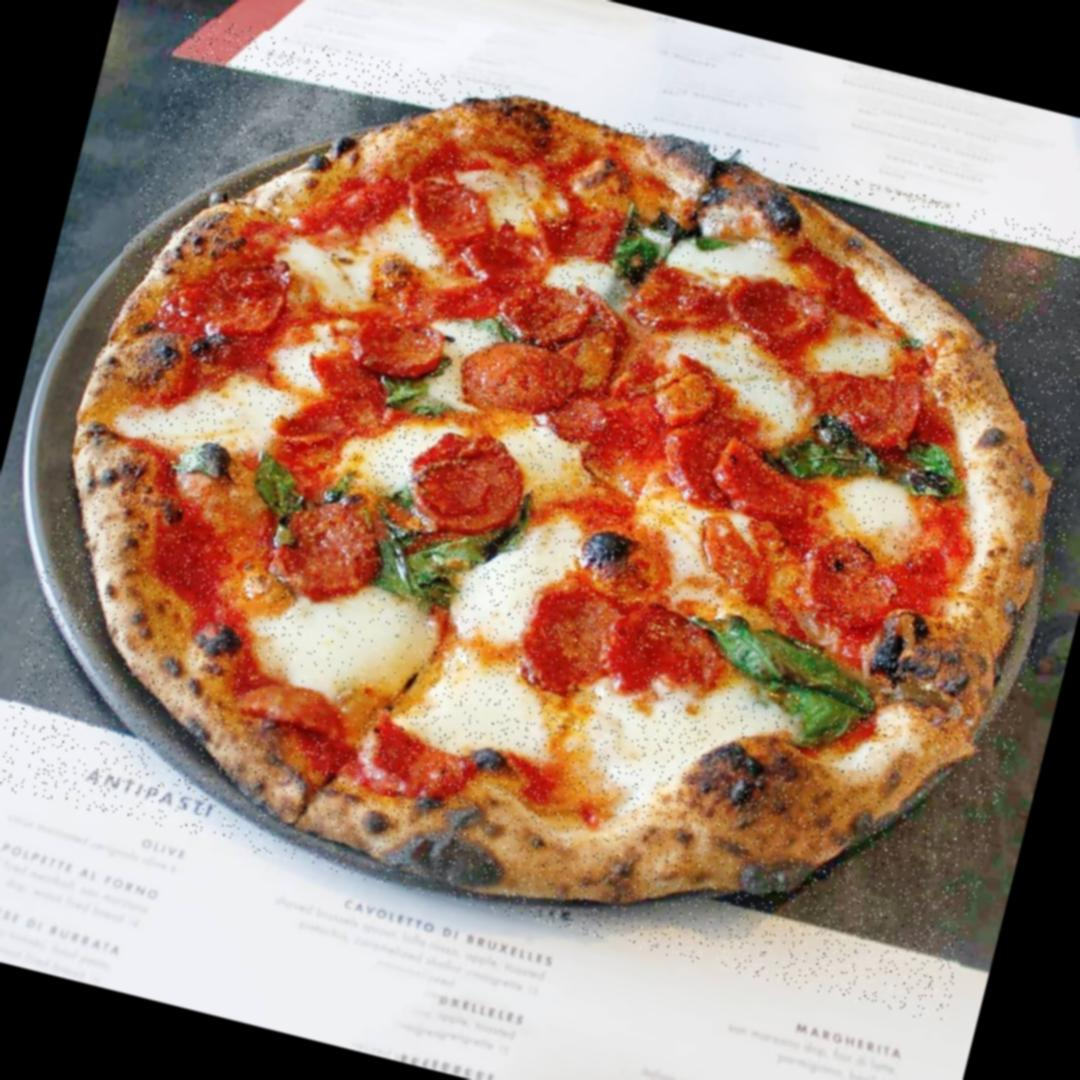Basil: (686, 609, 890, 757), (770, 408, 971, 516), (354, 509, 498, 627), (230, 446, 318, 553), (600, 210, 689, 291), (370, 374, 448, 424)
Cheese: (417, 652, 574, 774), (595, 684, 714, 826), (289, 595, 430, 713), (689, 330, 817, 432), (158, 371, 294, 460), (288, 222, 384, 308), (683, 228, 798, 294), (838, 465, 921, 545), (812, 321, 897, 387), (350, 421, 426, 492), (483, 172, 551, 226)
Pepperoni: (645, 412, 831, 538), (506, 566, 649, 710), (591, 582, 741, 718), (400, 411, 544, 548), (782, 525, 916, 649), (264, 492, 390, 612), (345, 714, 488, 816), (711, 258, 841, 370), (796, 356, 934, 459), (452, 324, 581, 431), (179, 242, 298, 355), (624, 244, 744, 351), (234, 669, 366, 751), (338, 300, 448, 392), (491, 266, 596, 354), (400, 170, 502, 258), (461, 214, 563, 297), (640, 354, 732, 437), (530, 376, 623, 453)
Pizza: (0, 11, 1080, 1025)
